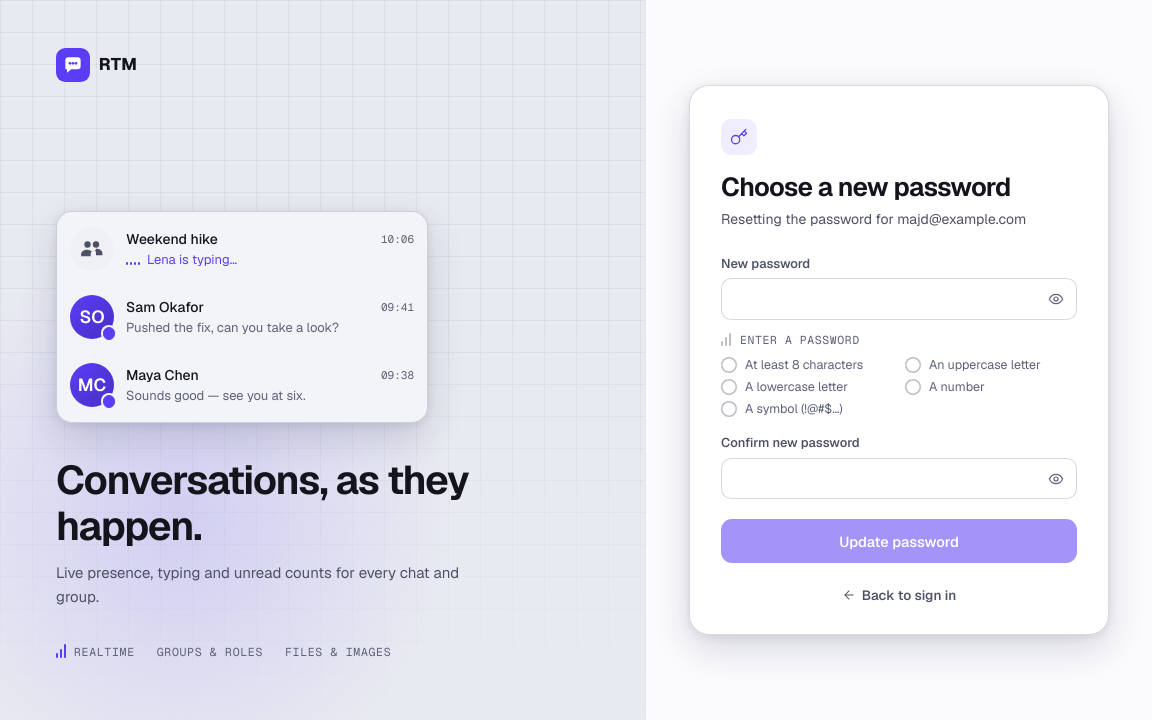
ResetPasswordPage › explains a link the server turned down, and offers a new one
Type "Str0ng_pass" into the password field labelled "New password" at (881, 299), box [722,279,1040,319]
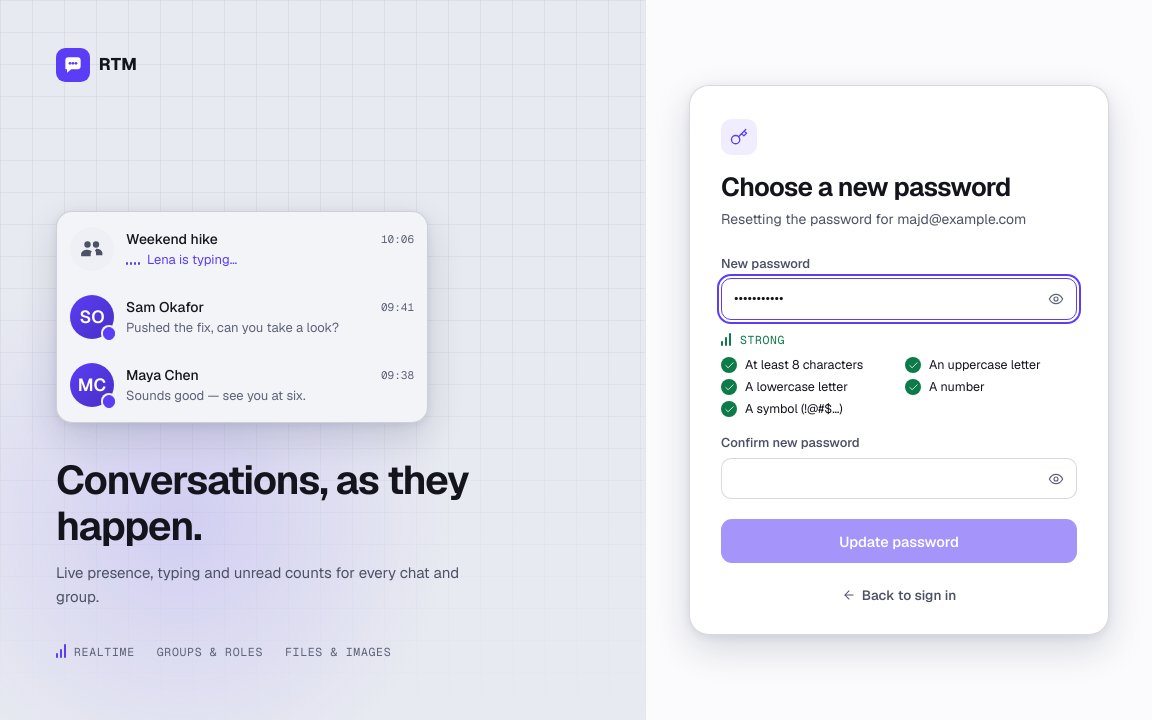
Type "Str0ng_pass" into the password field labelled "Confirm new password" at (881, 479), box [722,459,1040,498]
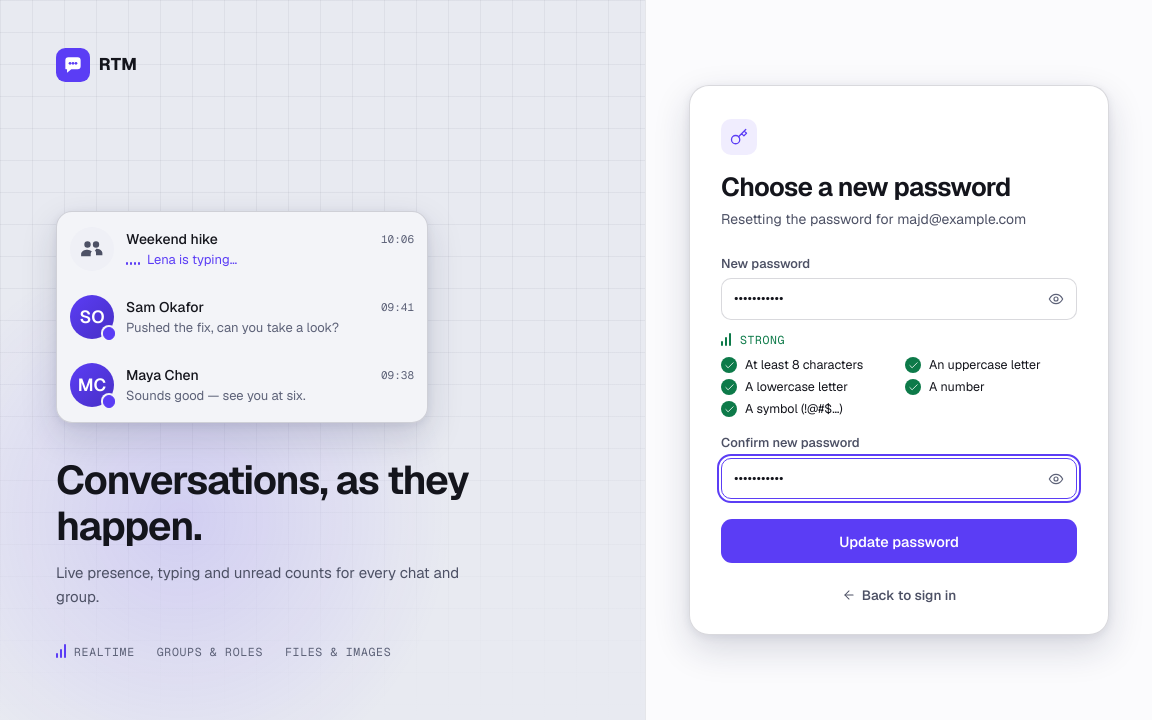
Click the button "Update password" at (899, 541), box [721,519,1077,563]
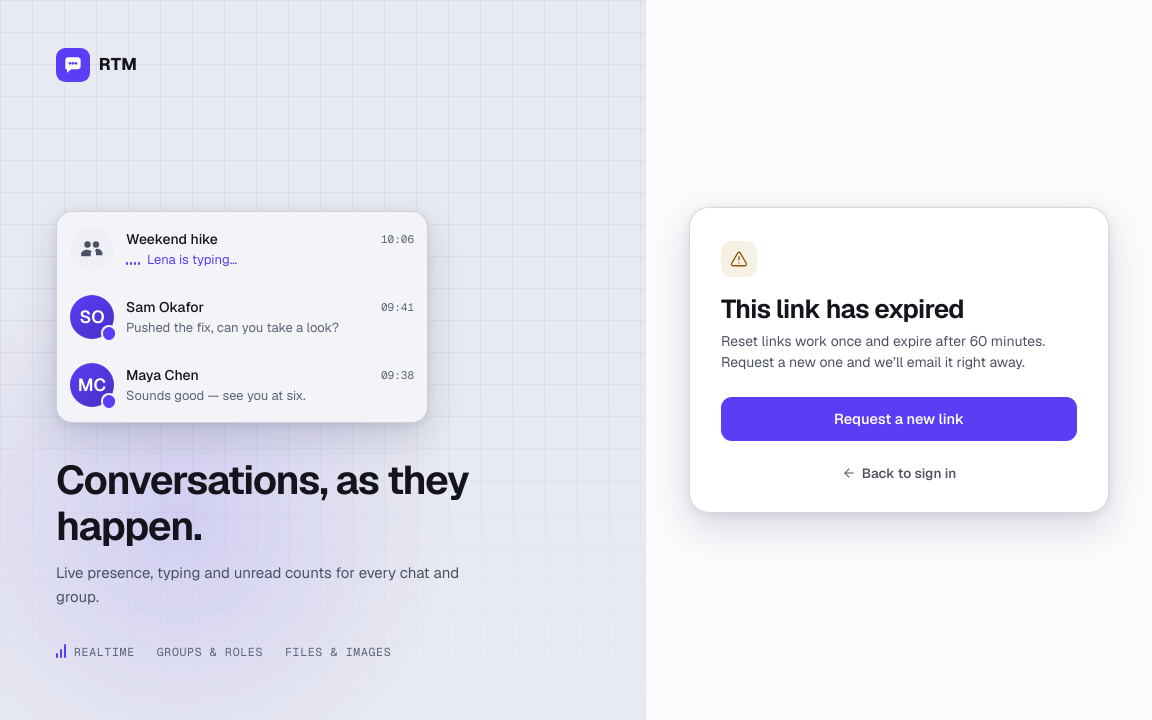
Expected: the heading "This link has expired" is shown, [721,292,964,326]
